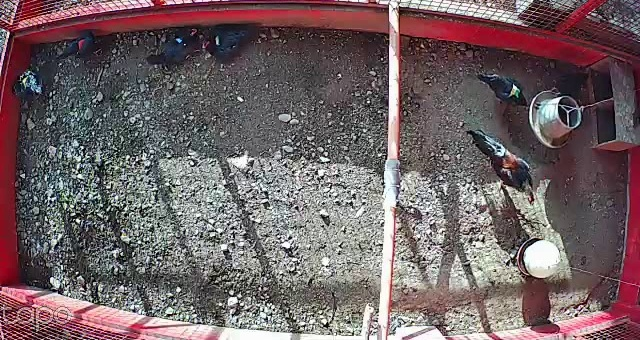Chicken: (53, 24, 128, 71), (194, 21, 263, 67), (144, 23, 205, 72), (475, 68, 535, 113), (12, 59, 49, 111)
Saddle_Color_Blue: (175, 37, 184, 45)
Saddle_Color_Red: (78, 40, 86, 51)
Saddle_Color_YellowGreen: (510, 81, 521, 98)
